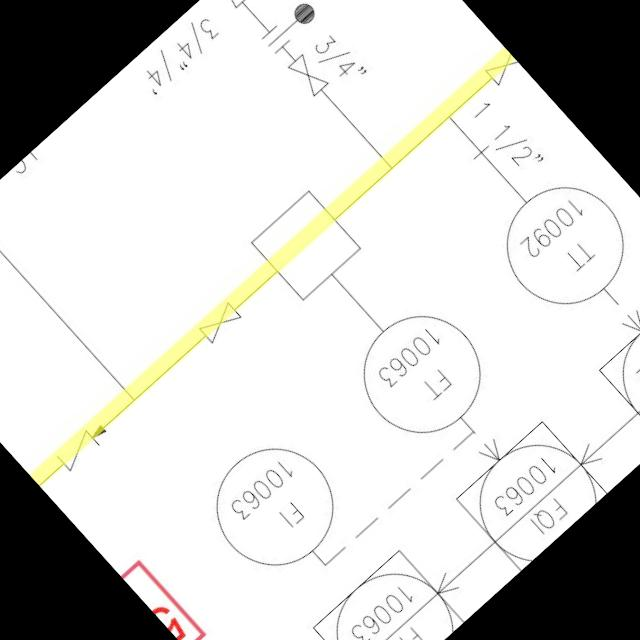GV: (280, 45, 334, 101), (191, 295, 245, 347)
SP: (215, 0, 258, 17)
